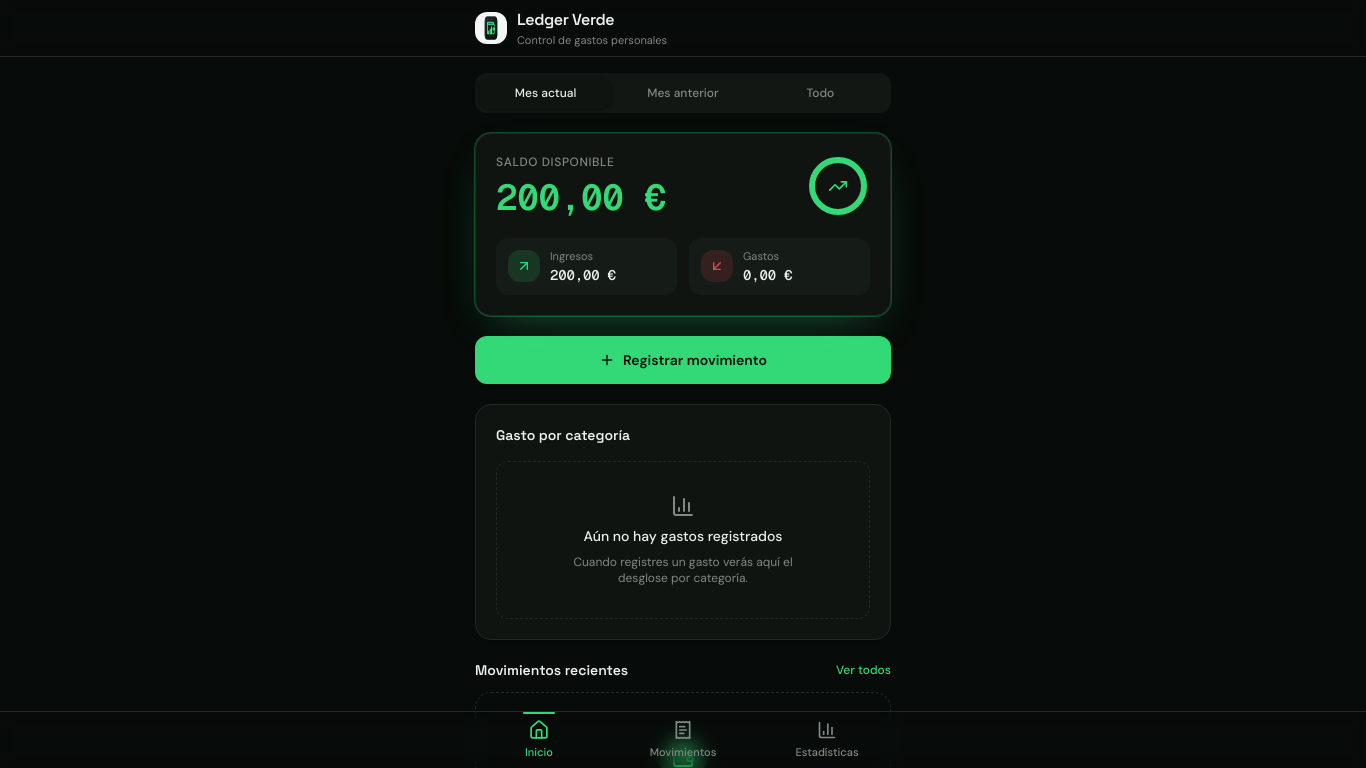
Test: Ledger Verde — flujo principal › registra un gasto y refleja el saldo actualizado tras invalidar
This screenshot has width=1366, height=768.
Check: the text with test id "balance.value" is shown, box [496, 178, 666, 218]
Click the button with test id "transaction.add_button" at (683,360), box [475, 336, 891, 384]
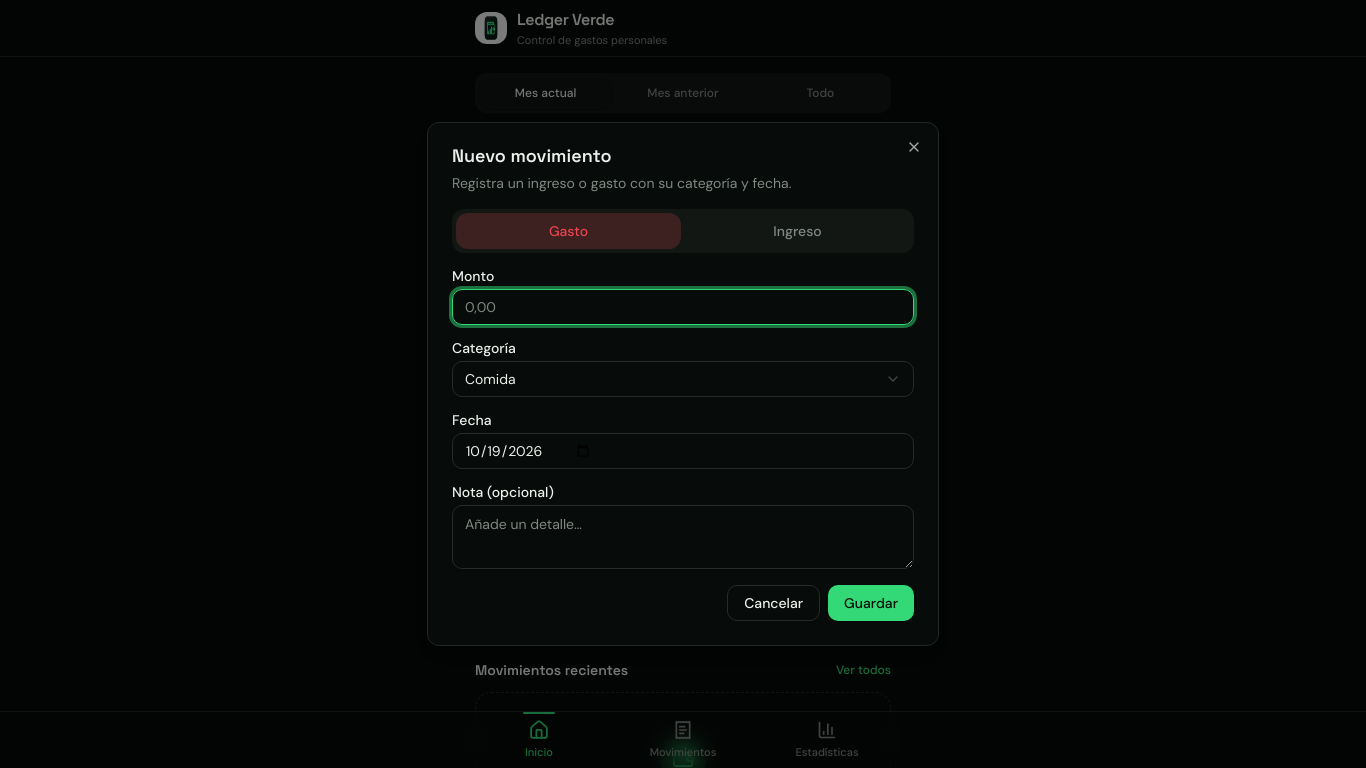
Type "50" into the field with test id "transaction.amount_input" at (683,307), box [452, 289, 914, 325]
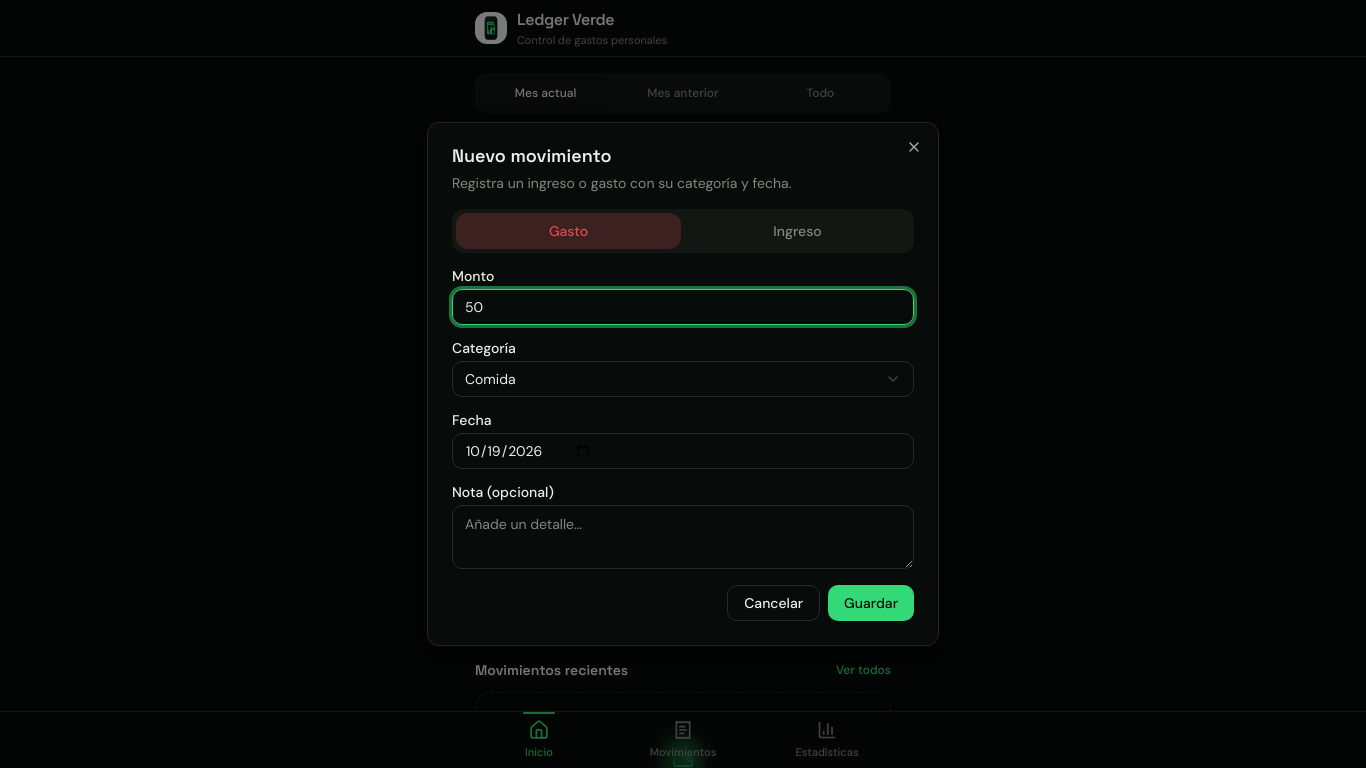
Click the button with test id "transaction.submit_button" at (871,603), box [828, 585, 914, 621]
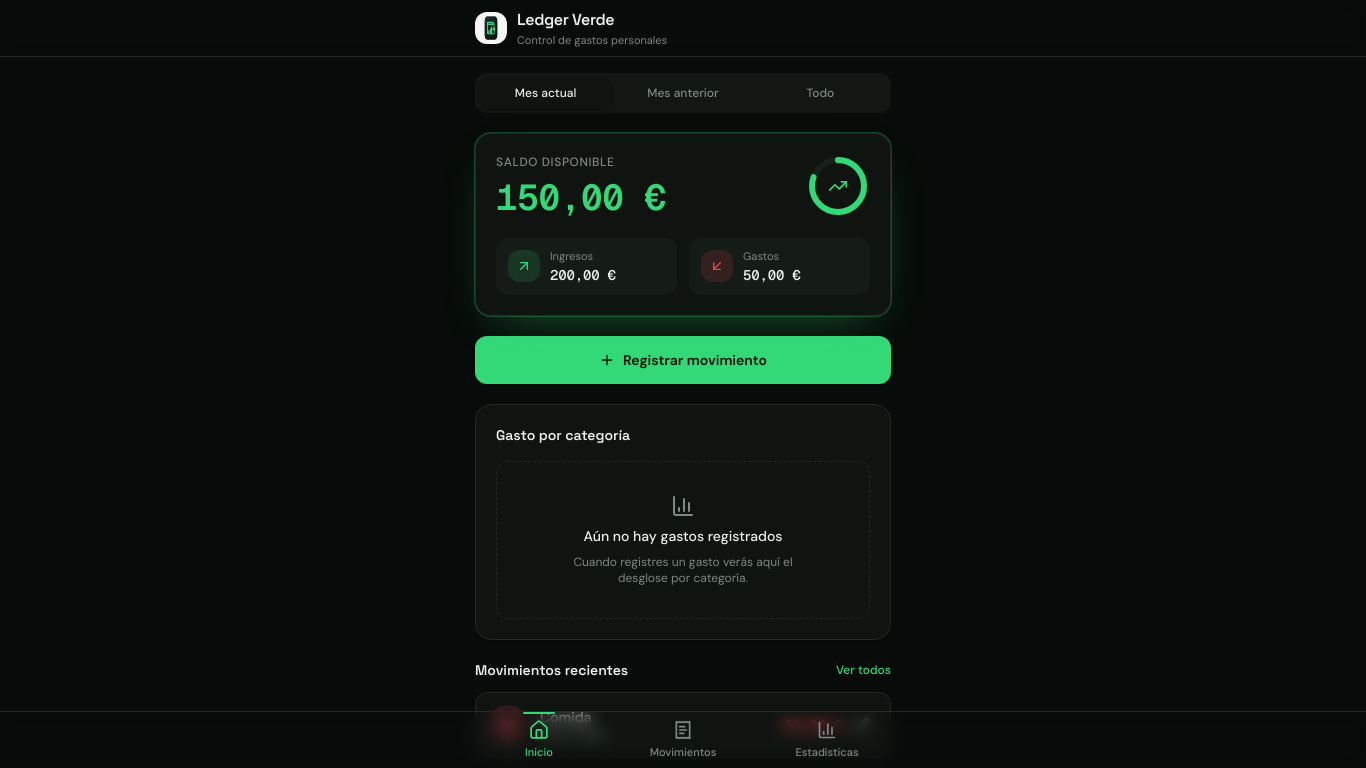
Check: the text with test id "balance.value" shows "150,00", box [496, 177, 666, 218]
